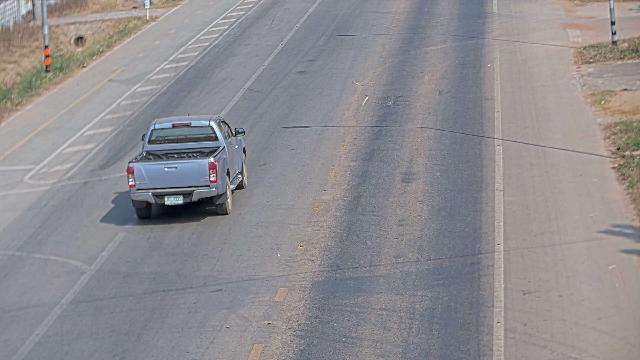pickup-truck: (125, 113, 248, 220)
